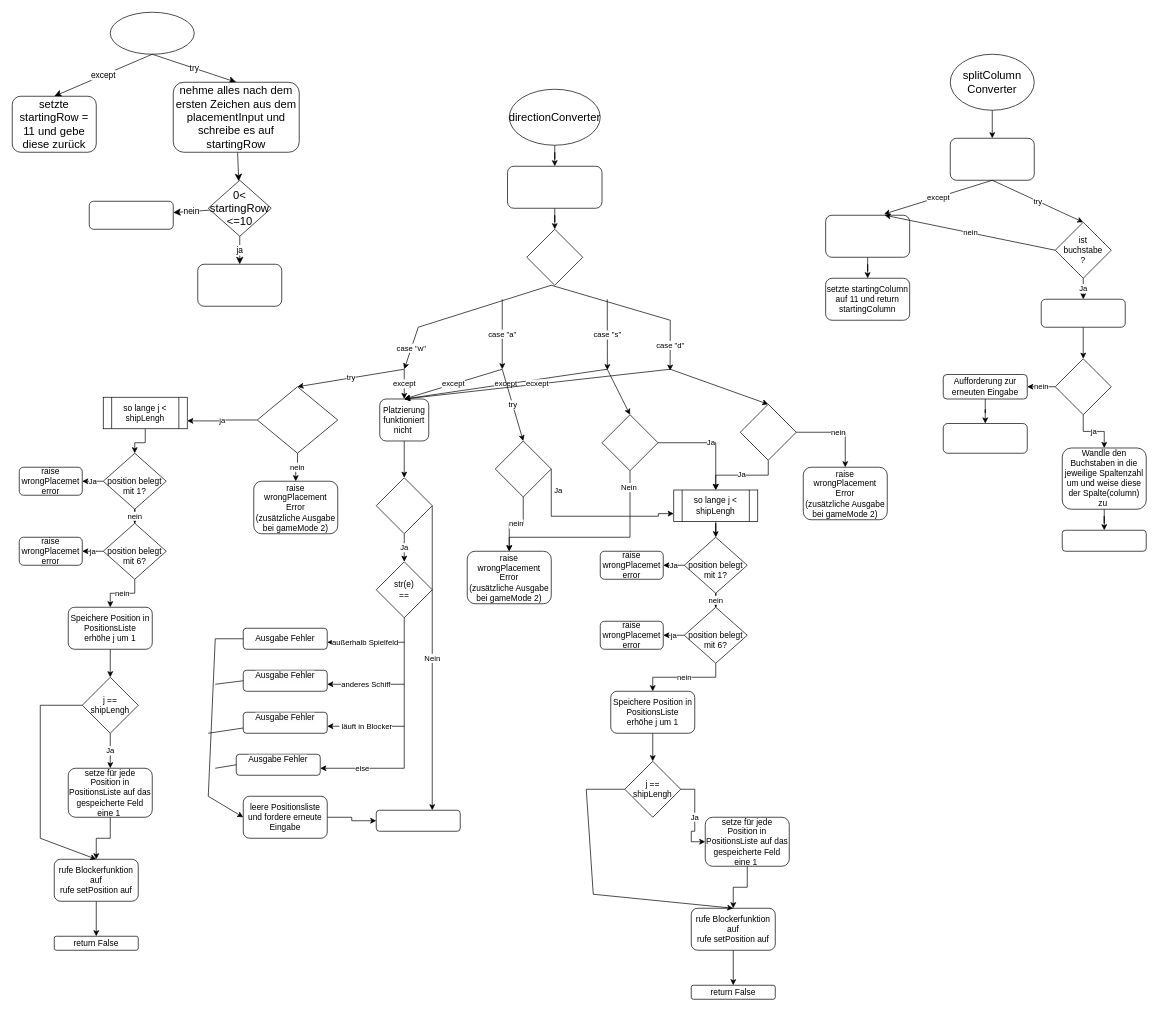
This 1159x1012 diagram has some shape labels left out. Here are the shapes that lost their labels. From the top down, the centre of each, then its label:
(x=152, y=33): splitRow
(x=992, y=159): Nehme das erste Zeichen aus dem Input
(x=554, y=187): initialisiere Zählvariable und Positonsliste
(x=131, y=215): raise ValueError
(x=867, y=236): Ausgabe Fehlermeldung Aufforderung erneute Eingabe
(x=239, y=285): gebe startingRow zurück
(x=1083, y=313): Mache den Buchstaben zum Großbuchstaben
(x=1083, y=386): Buchstabe A-J ?
(x=297, y=419): row of Schiffende >0
(x=768, y=432): column of Schiffsende <10
(x=985, y=438): setzte startingColumn auf 11 und retrun diese
(x=629, y=442): row of Schiffsende <10
(x=523, y=468): column of Schiffsende > 0
(x=404, y=505): gameMode ==2?
(x=1104, y=540): return startingColumn
(x=418, y=820): return True
